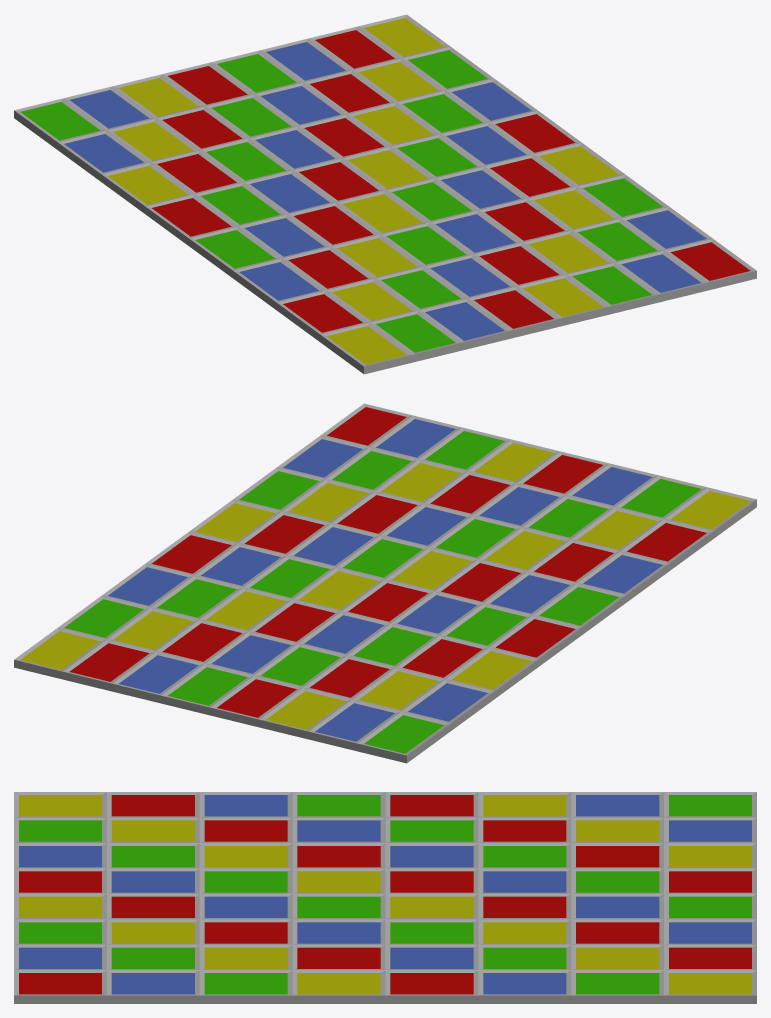
Rendered from Dance_Floor.fbx.
The picture shows the model from 3 angles, top to bottom: view 1: azimuth 30°, elevation 25°; view 2: azimuth 150°, elevation 25°; view 3: azimuth 270°, elevation 25°; orthographic projection. The views are drawn at different scales.
Parts seen in each view (by area): view 1: Dance; view 2: Dance; view 3: Dance.
Boxes of the visible parts, <box> form: Dance: <box>14,14,756,374</box>; Dance: <box>14,403,756,763</box>; Dance: <box>14,792,756,1003</box>.
Bounding box in the file's own units: 9.93 × 0.1897 × 15.33.
